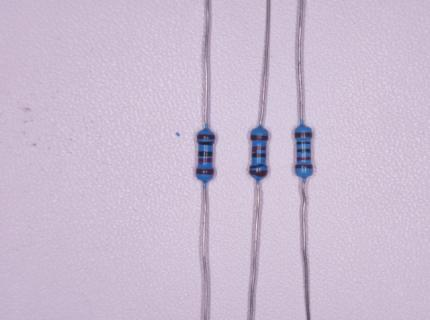Black band: (198, 141, 214, 146), (252, 153, 266, 158), (297, 148, 311, 153), (198, 151, 212, 156), (297, 141, 311, 145), (251, 165, 267, 168)
Brown band: (250, 135, 269, 141), (197, 134, 216, 140), (295, 132, 313, 138), (196, 169, 214, 175), (250, 170, 267, 176), (296, 165, 313, 169)
Red band: (252, 146, 267, 151), (297, 156, 311, 161), (198, 158, 212, 163)
